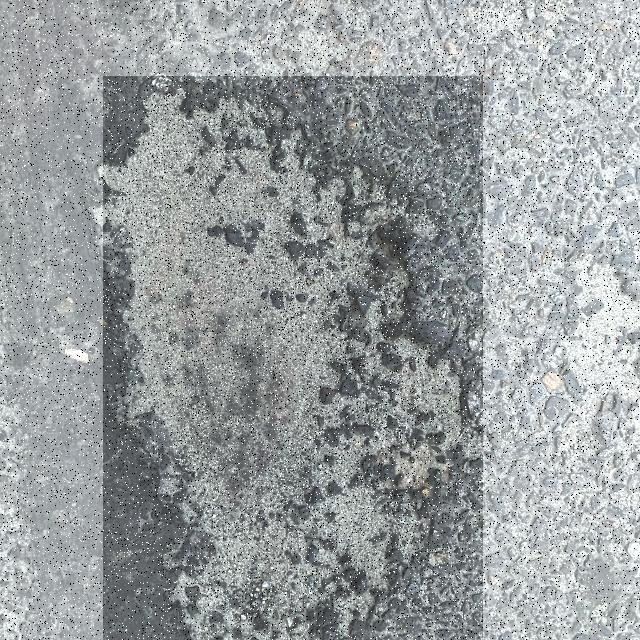damaged: (103, 76, 483, 640), (555, 236, 640, 508)
